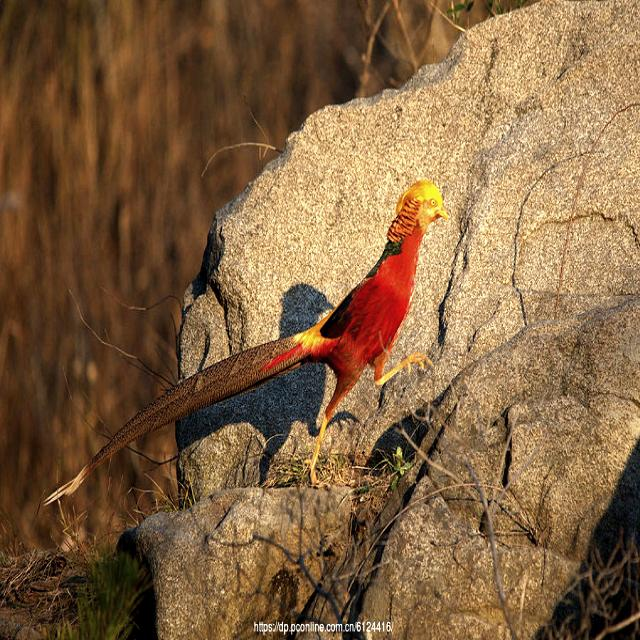Chrysolophus pictus feather: (44, 337, 304, 504)
